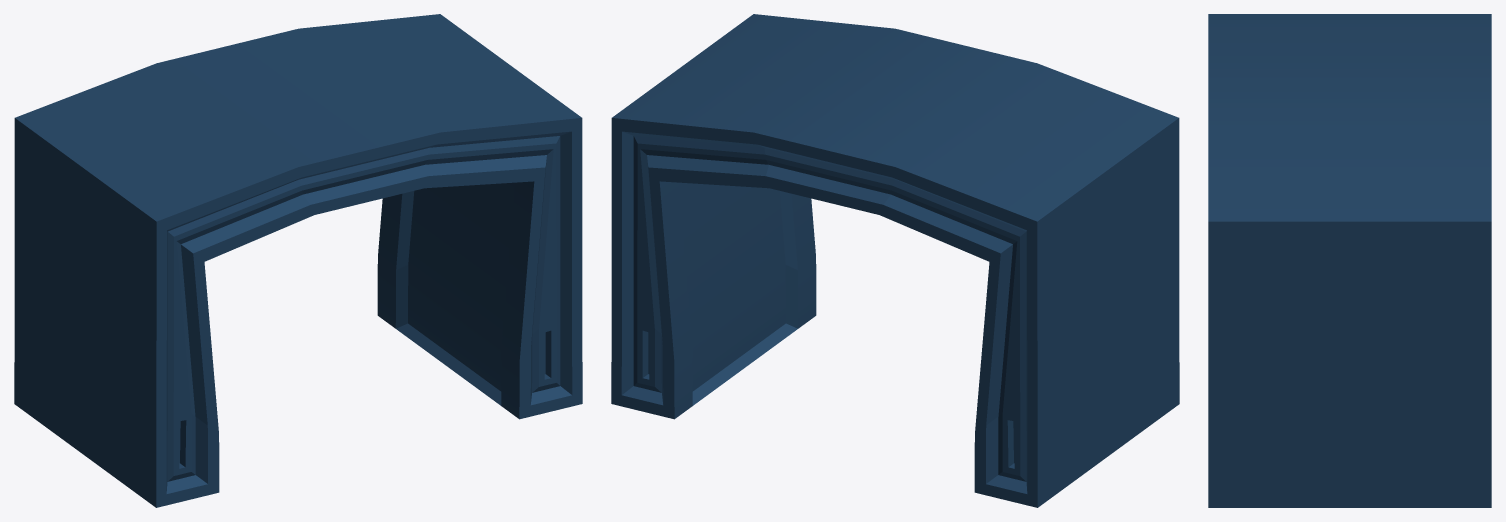
The model's file is Door_Big.fbx.
3 renders of one model, left to right at view 1: azimuth 30°, elevation 25°; view 2: azimuth 150°, elevation 25°; view 3: azimuth 270°, elevation 25°, orthographic.
Visible parts, largest first — view 1: Door_Big; view 2: Door_Big; view 3: Door_Big.
Part boxes in pixels (x1,y1,x2,y2): Door_Big: (14, 14, 582, 507); Door_Big: (611, 14, 1179, 507); Door_Big: (1208, 14, 1491, 507).
Size of the model in its own units: 373 by 256 by 215.
